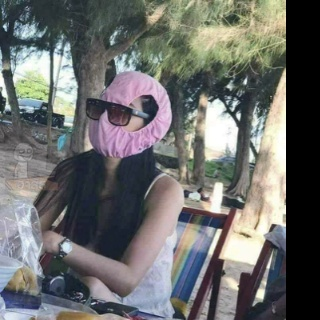with_mask: (87, 93, 144, 158)
